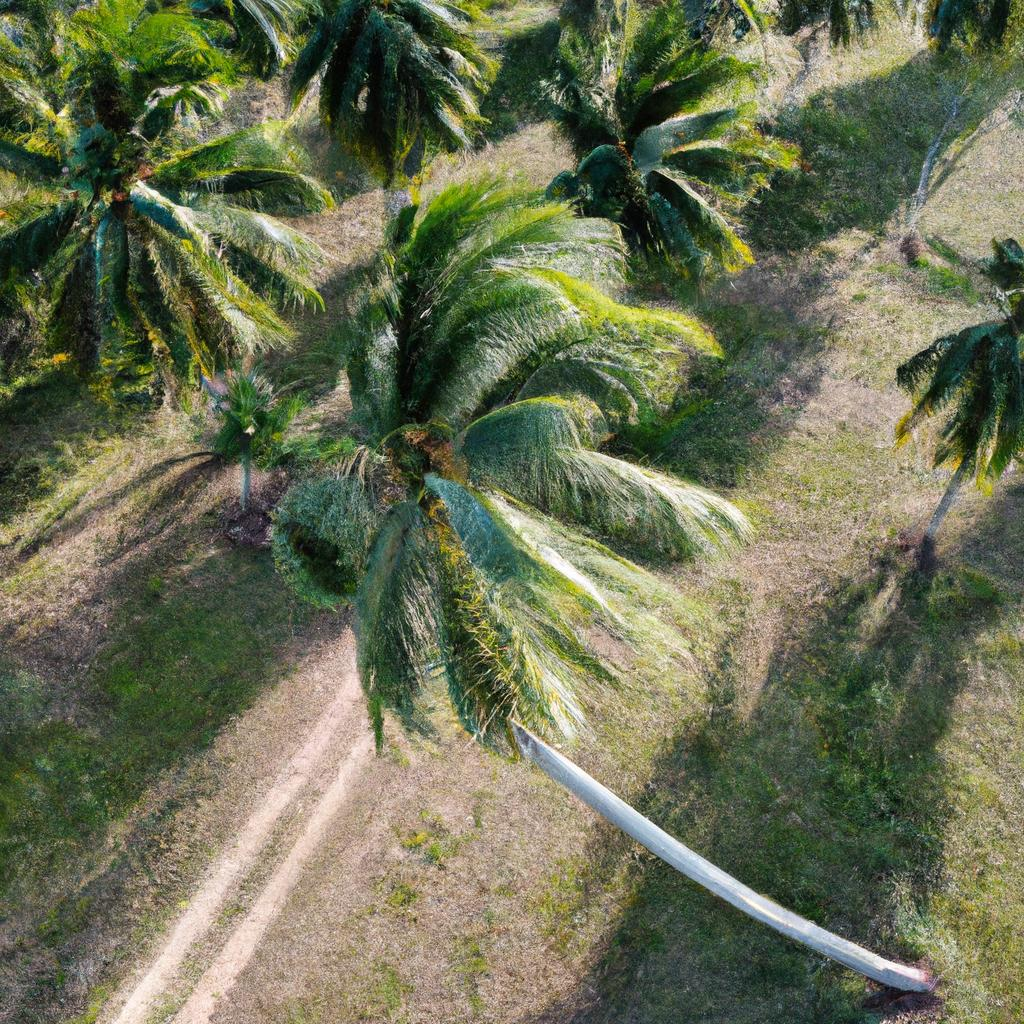coconut_tree: (224, 166, 833, 881)
